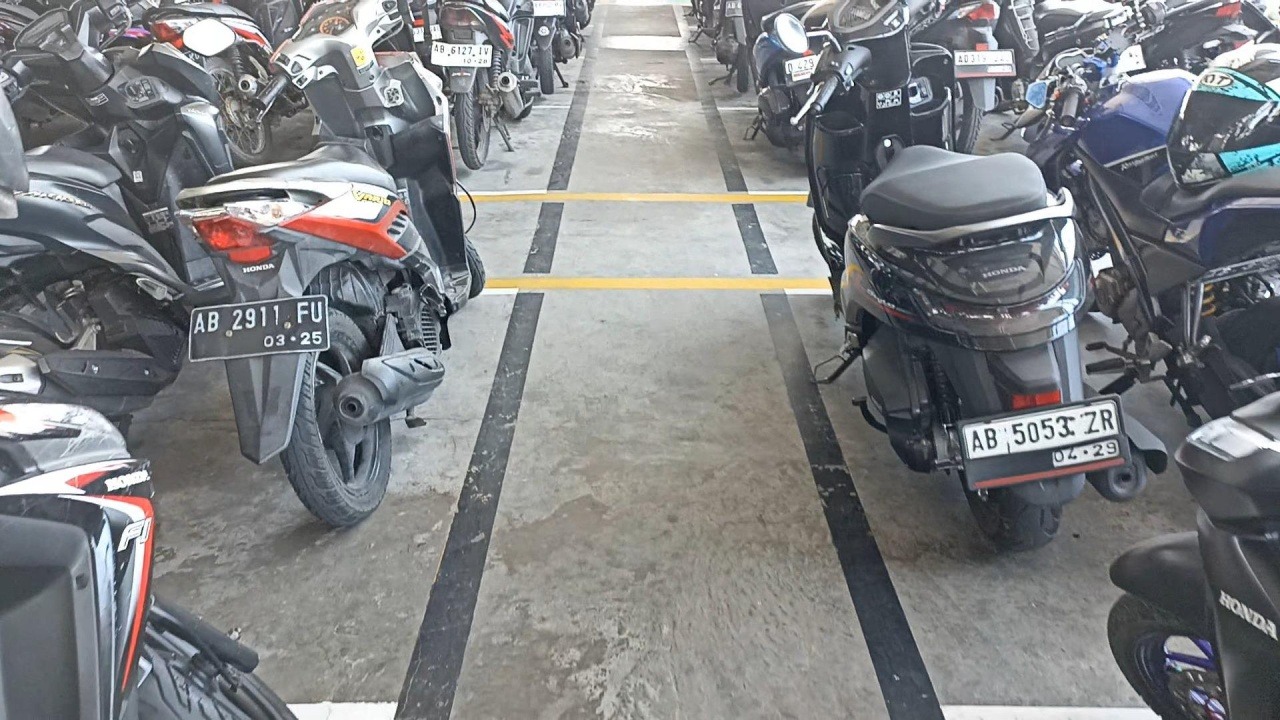plate: (961, 398, 1129, 489), (190, 295, 330, 363), (431, 42, 492, 67)
